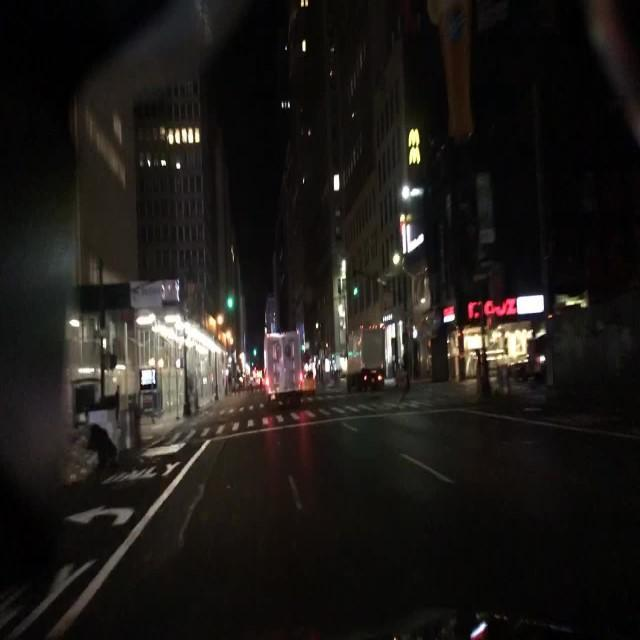normal: (229, 316, 342, 420)
